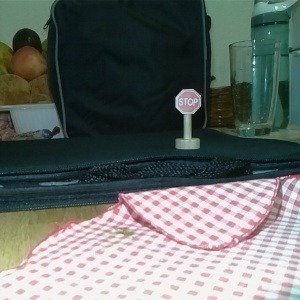stop sign: (173, 87, 203, 152)
